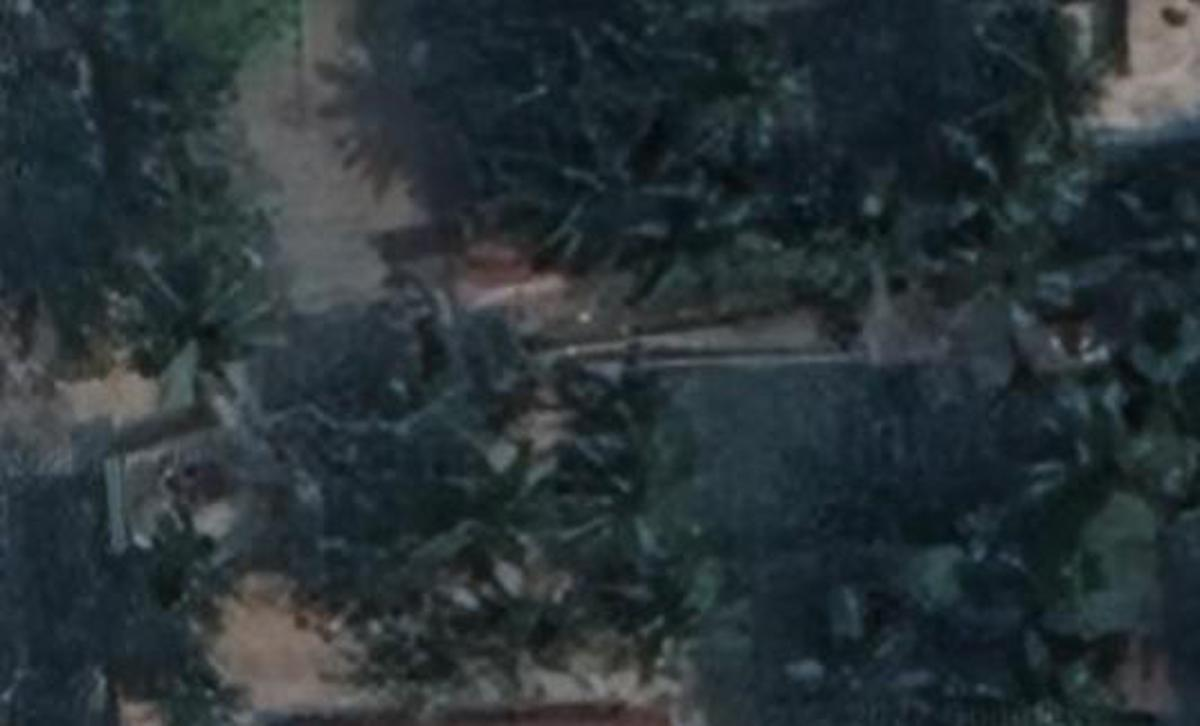coconut: (114, 242, 267, 388), (631, 157, 768, 303), (537, 413, 683, 546), (608, 534, 743, 676), (784, 582, 923, 719), (469, 557, 595, 690), (975, 20, 1116, 137), (433, 442, 557, 575), (503, 114, 631, 236), (692, 38, 815, 164), (973, 550, 1094, 678), (1024, 370, 1148, 492), (408, 316, 532, 438), (1015, 125, 1132, 249), (822, 188, 937, 303), (914, 137, 1031, 249)
